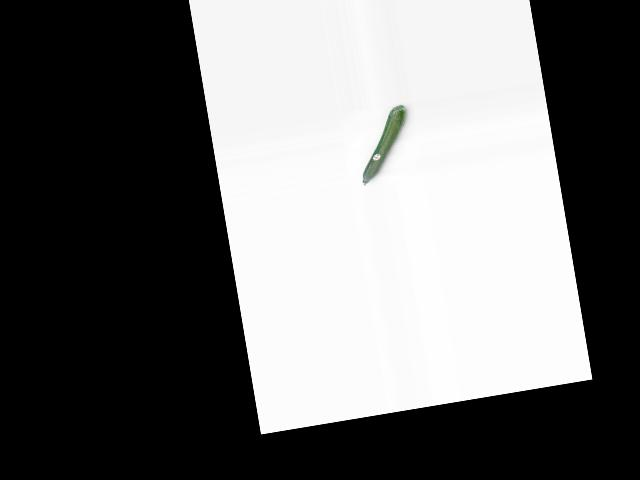cucumber: (351, 105, 416, 186)
